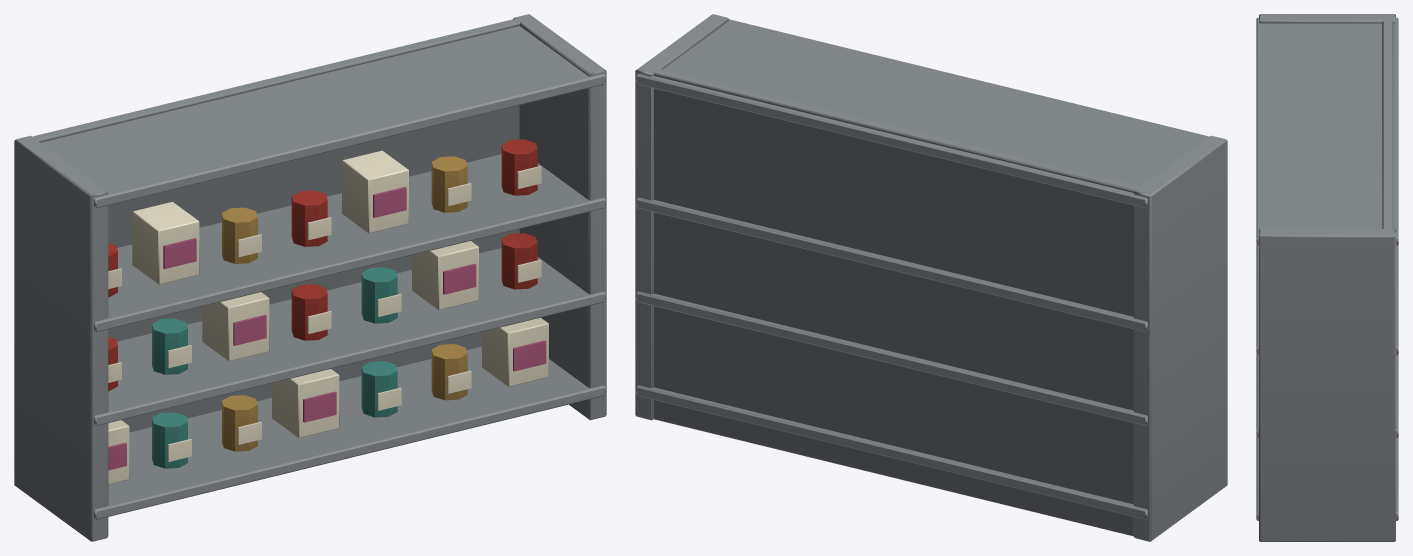
The model's file is shelf_pantry.glb.
3 renders of one model, left to right at view 1: azimuth 30°, elevation 25°; view 2: azimuth 150°, elevation 25°; view 3: azimuth 270°, elevation 25°, orthographic. The views are drawn at different scales.
Visible parts, largest first — view 1: shelf_pantry; view 2: shelf_pantry; view 3: shelf_pantry.
Boxes of the visible parts, left/top/right/bottom form: shelf_pantry: left=14, top=14, right=606, bottom=541; shelf_pantry: left=635, top=14, right=1227, bottom=541; shelf_pantry: left=1256, top=14, right=1398, bottom=541.
Bounding box in the file's own units: 2.88 × 1.85 × 0.78.
